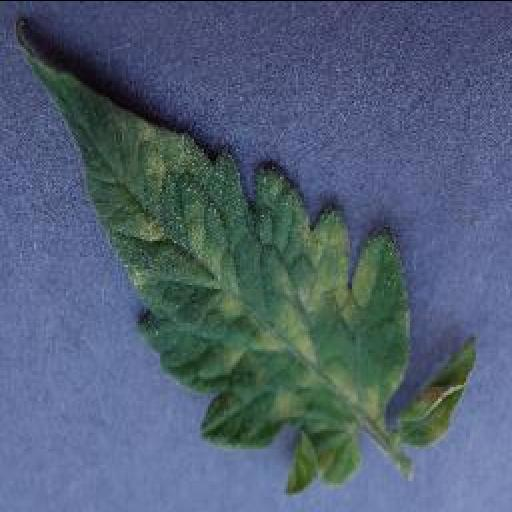disease_tomato: (10, 26, 412, 492), (393, 332, 483, 450)
